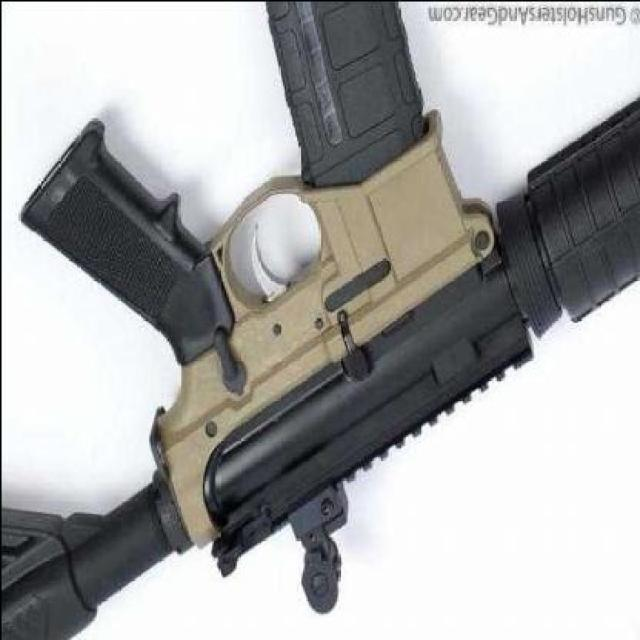rifle: (1, 0, 638, 638)
